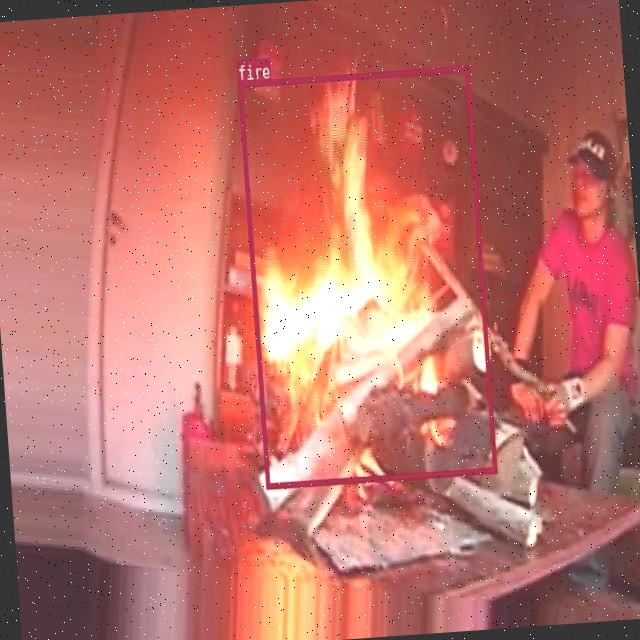fire: (237, 65, 496, 488)
